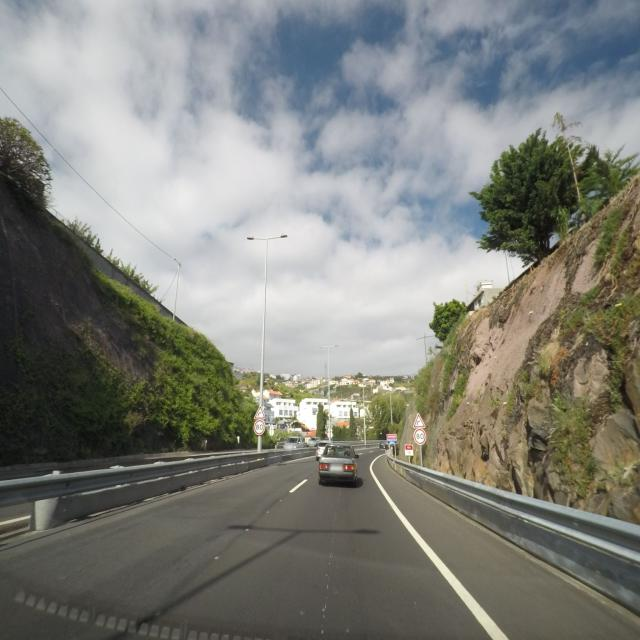car: (317, 442, 358, 487), (315, 440, 332, 460), (284, 435, 304, 450), (306, 435, 322, 448), (379, 441, 388, 449)
